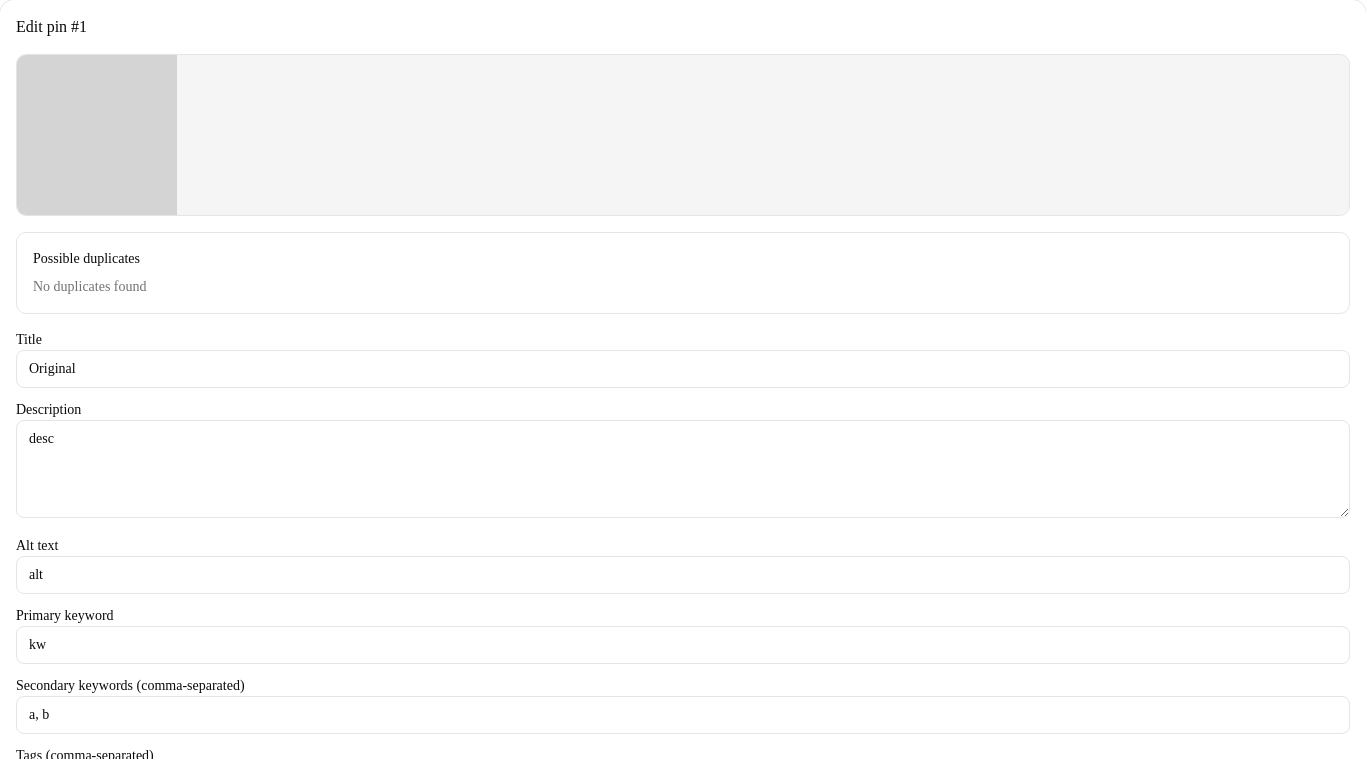
it: PinEditor › shows an alert banner with the message when updatePin returns 409
Replace the text in the field labelled "Title" with "new" at (683, 369), box [16,350,1350,388]
(page scrolled)
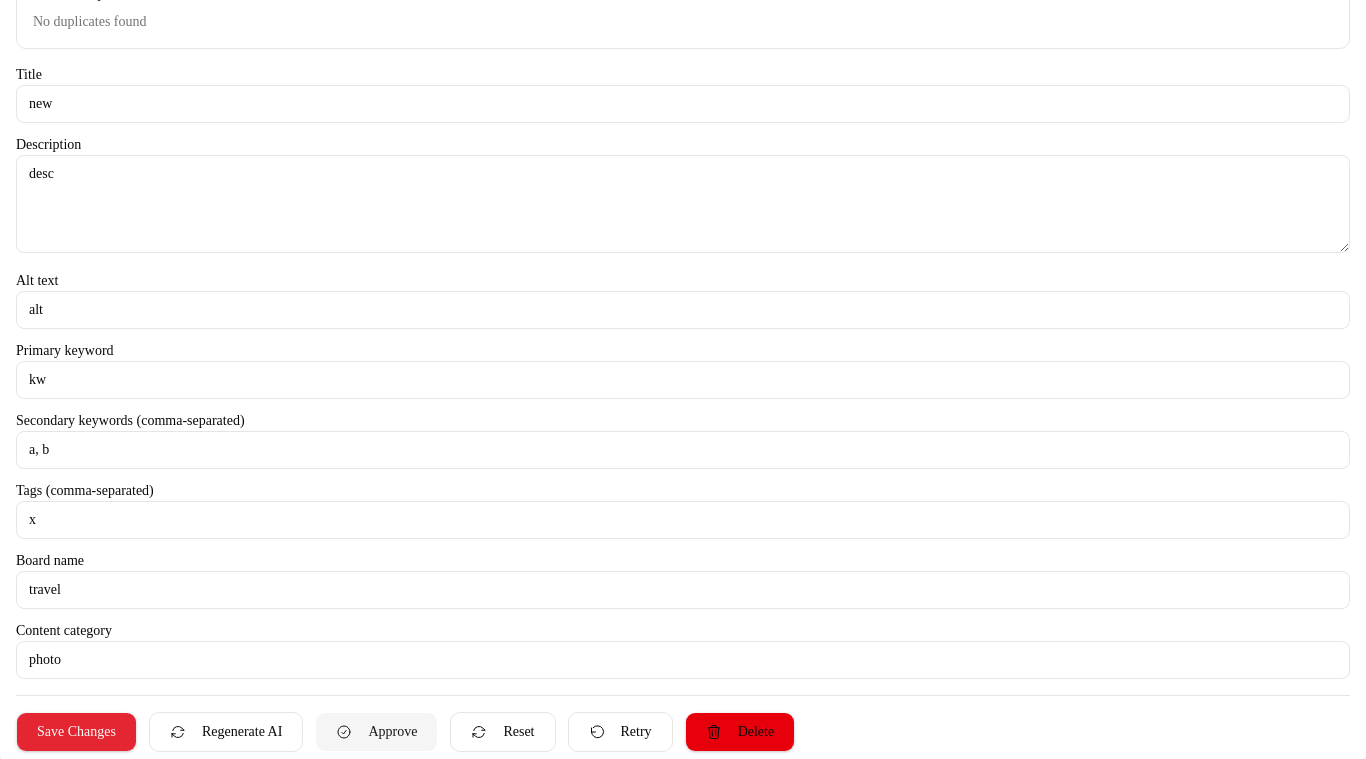
Click the button "Save Changes" at (76, 732), box [16,712,137,752]
(page scrolled)
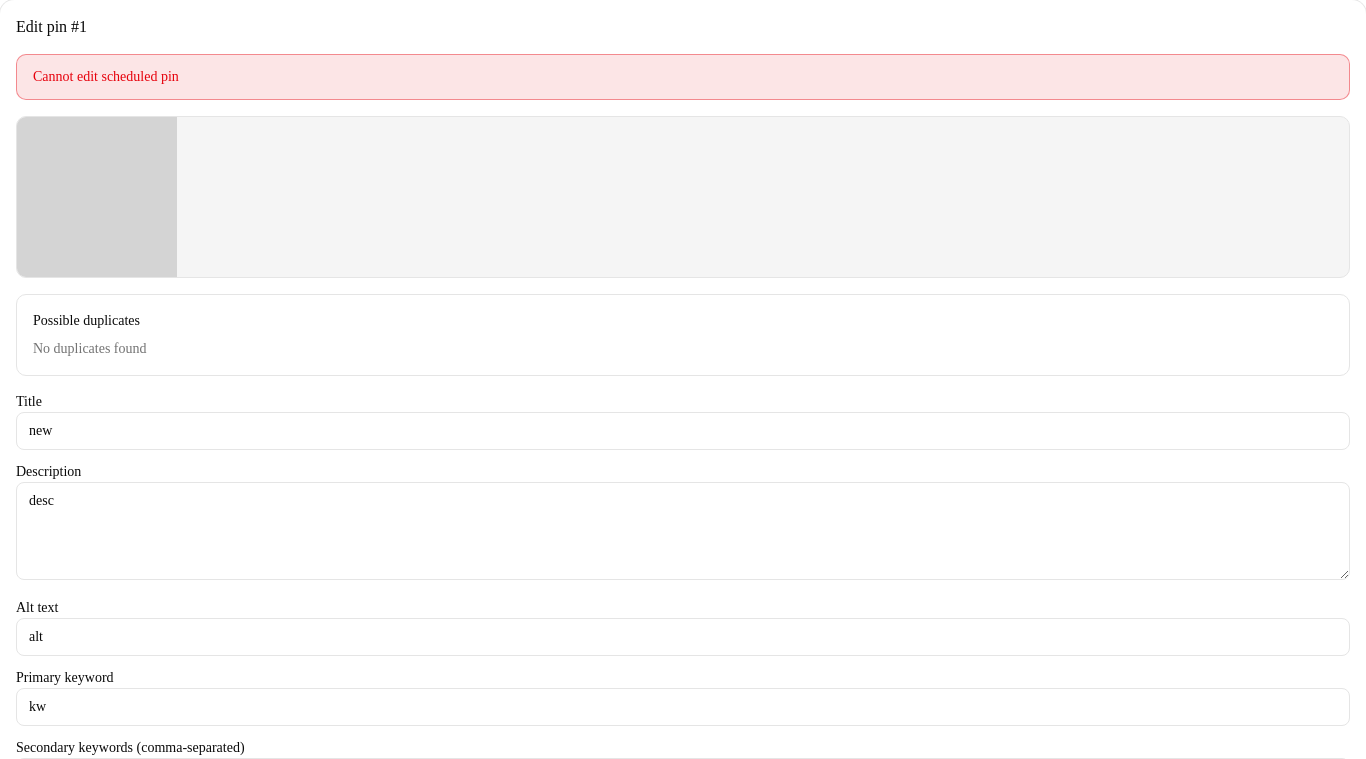
Check: the message reads "Cannot edit scheduled pin", box [33,69,179,84]
